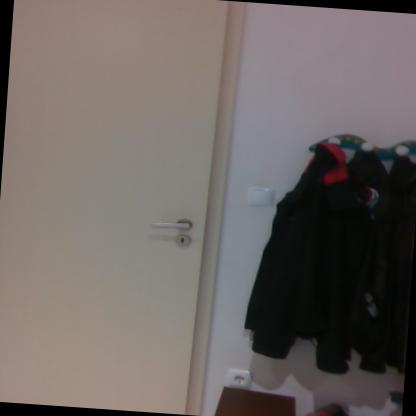closed: (0, 0, 248, 415)
